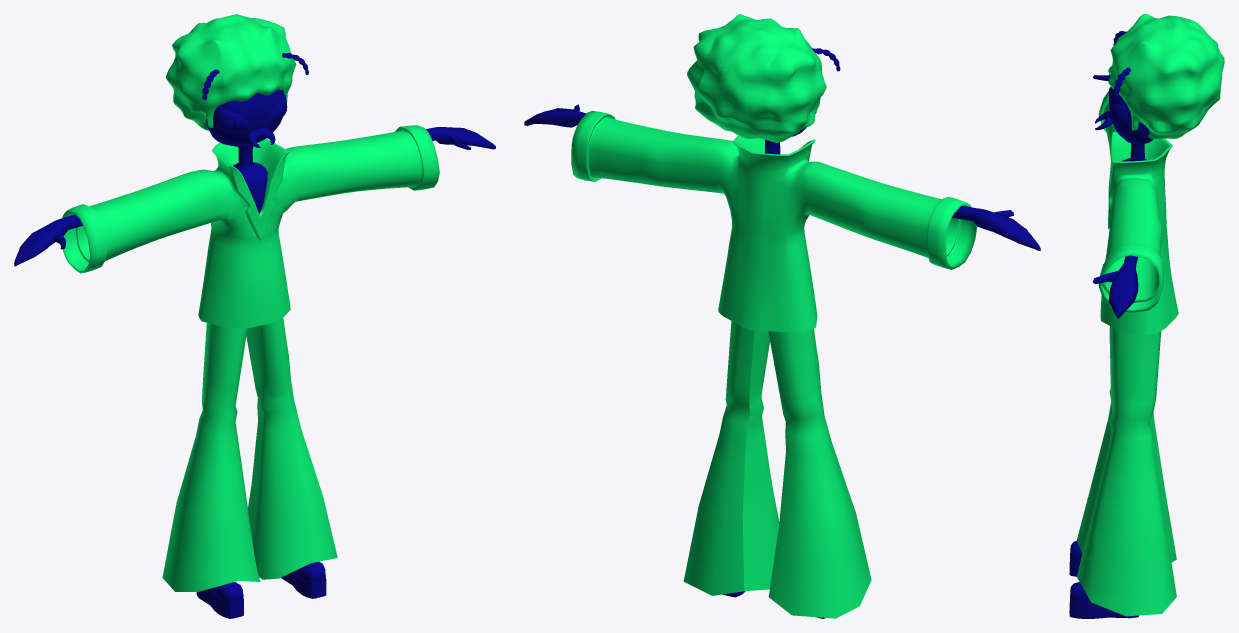
File: Fourmi_disco_fini.fbx
3 renders of one model, left to right at view 1: azimuth 30°, elevation 25°; view 2: azimuth 150°, elevation 25°; view 3: azimuth 270°, elevation 25°, orthographic. The views are drawn at different scales.
Visible parts, largest first — view 1: Object009; view 2: Object009; view 3: Object009.
Boxes of the visible parts, left/top/right/bottom form: Object009: left=14, top=14, right=495, bottom=618; Object009: left=524, top=14, right=1040, bottom=618; Object009: left=1069, top=14, right=1224, bottom=618.
Bounding box in the file's own units: 165 × 180 × 44.48.
